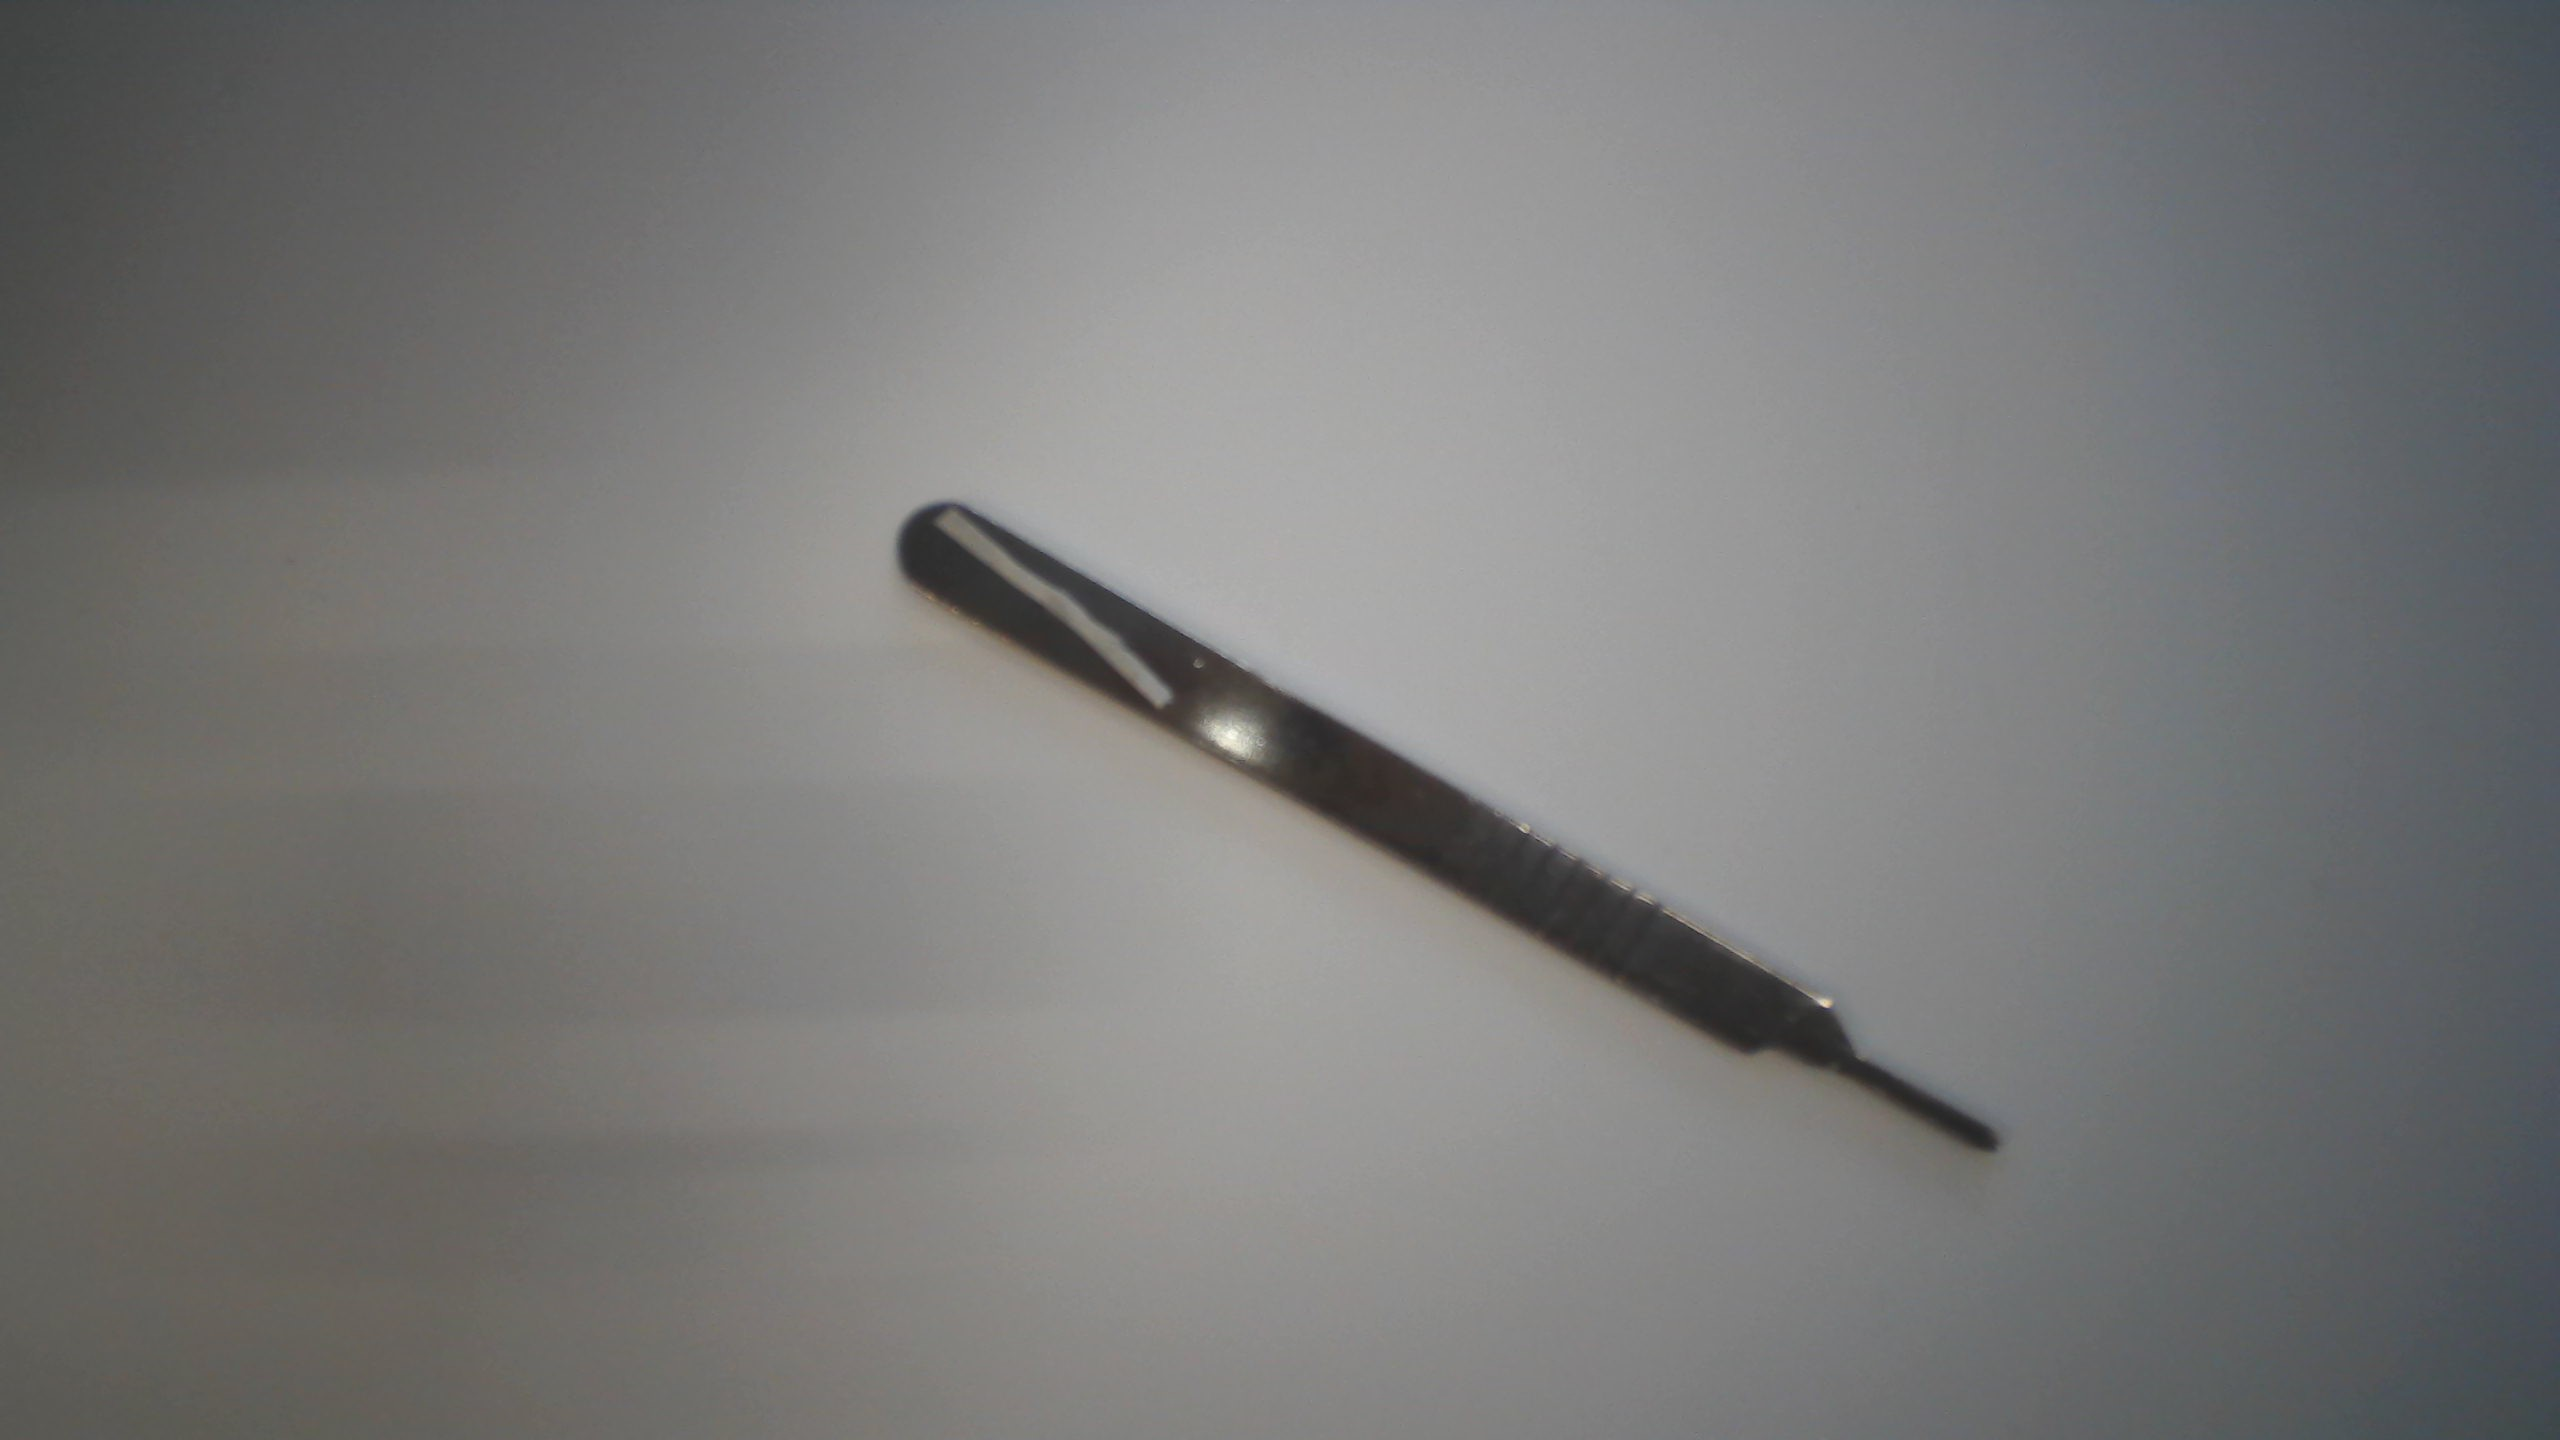Scratches: (928, 498, 1184, 722)
